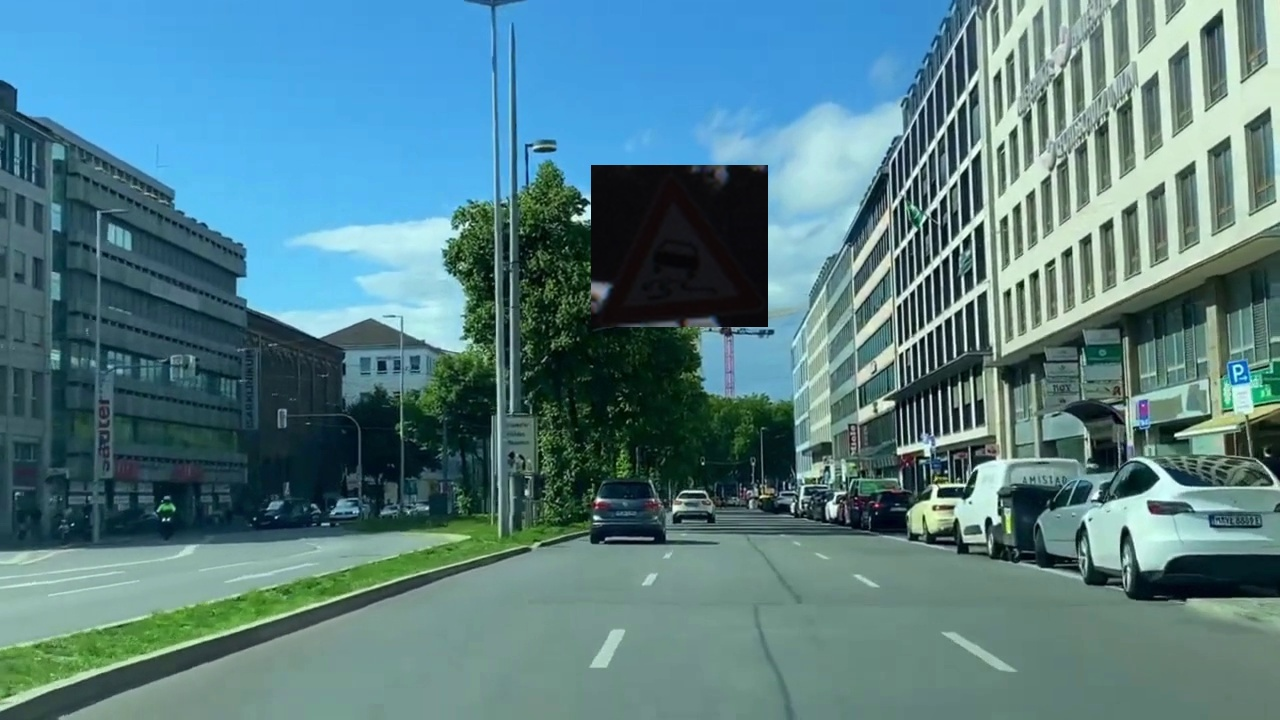Slippery: (591, 165, 768, 327)
